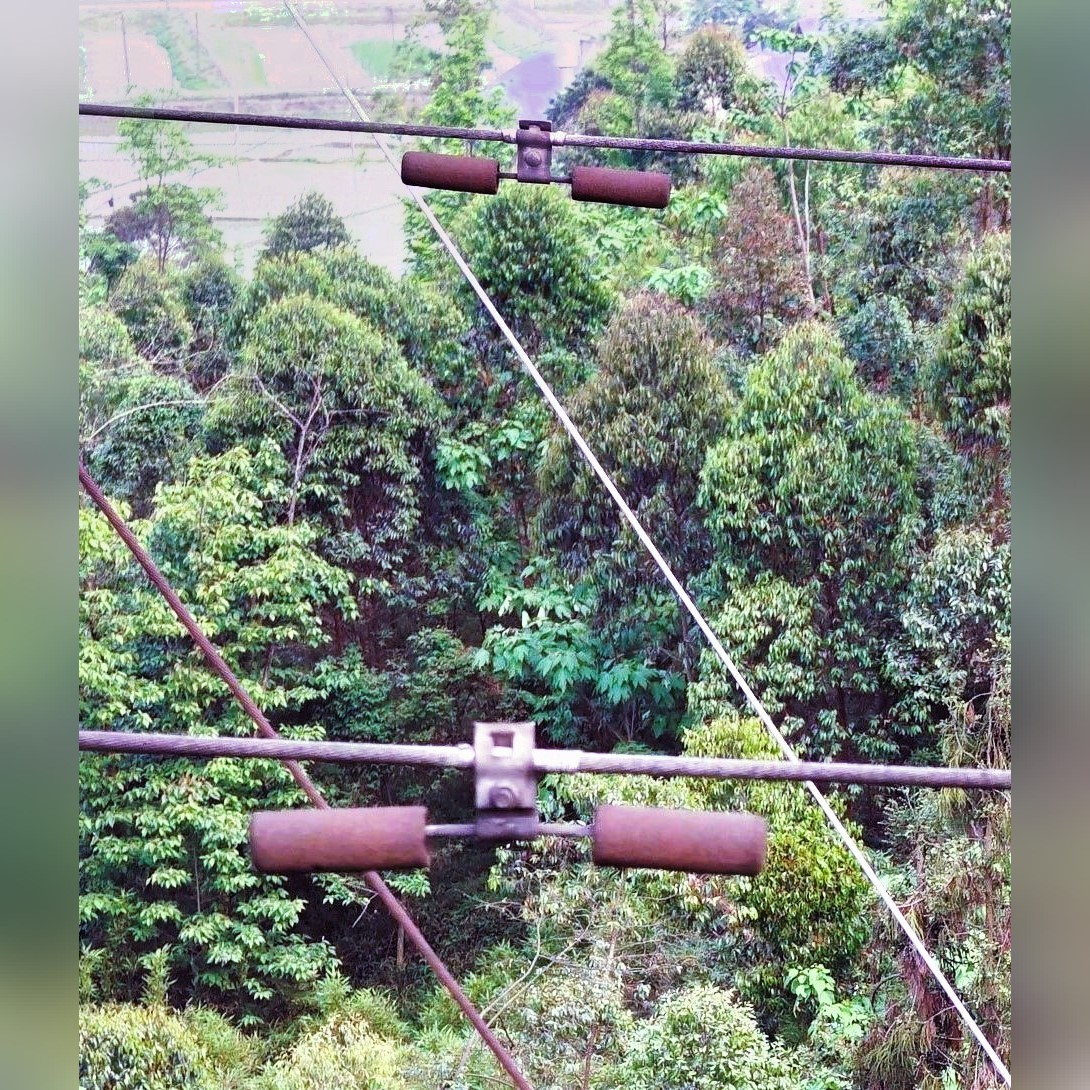Shockproof hammer: (238, 714, 781, 897), (384, 106, 677, 218)
